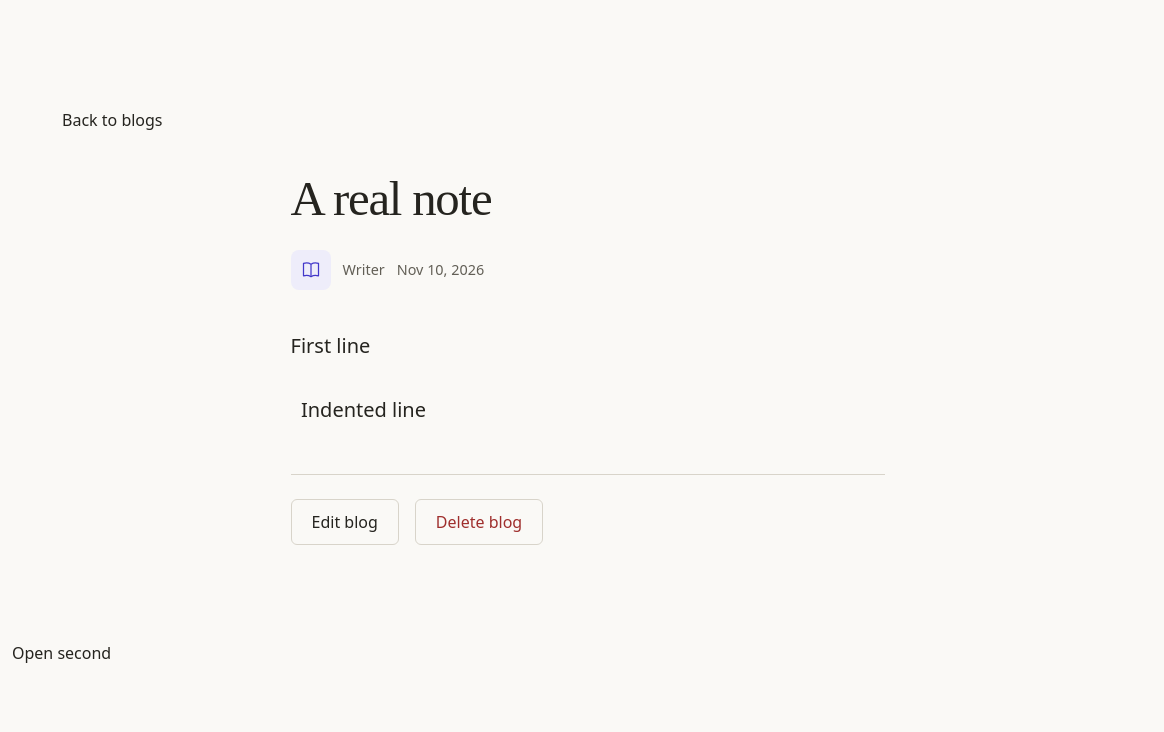
Test case: ReadBlog › shows permitted controls and edit navigation for user
Expected: the button "Delete blog" is shown, 415,499 -> 543,545
Click the link "Edit blog": {"x": 345, "y": 522} 291,499 -> 399,545
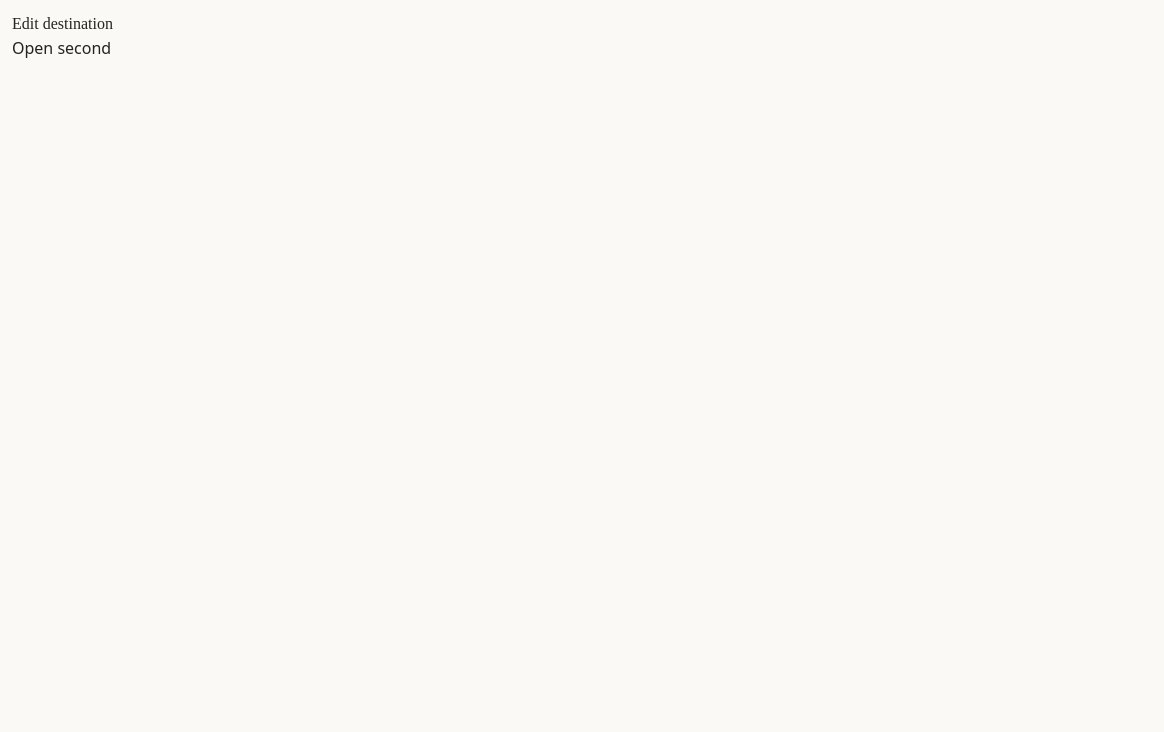
Now the heading "Edit destination" is shown, box 12,15 -> 113,32
